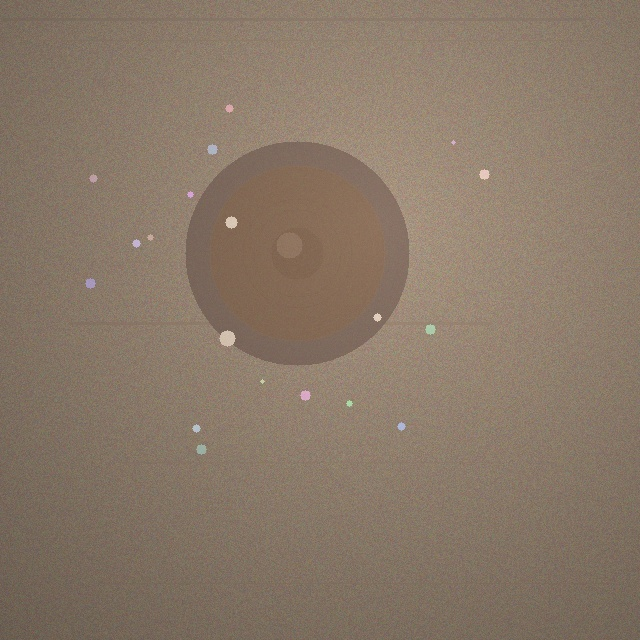overburn: (185, 141, 409, 365)
